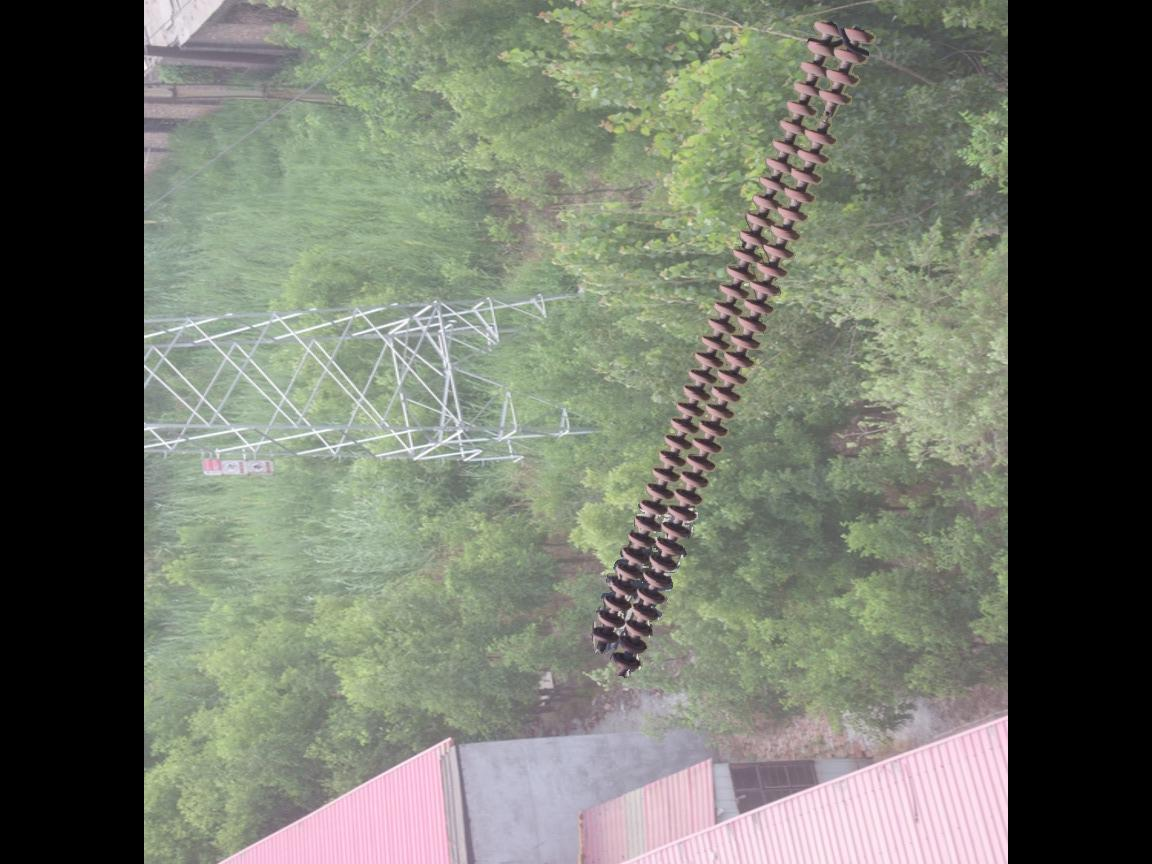insulator: (585, 12, 873, 685)
insulator_stringdrop: (801, 87, 853, 150)
